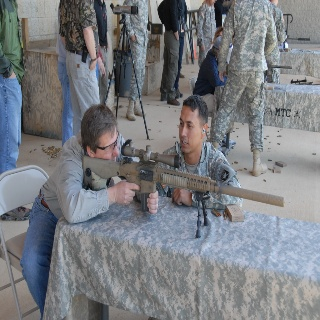rifle: (82, 139, 286, 239)
